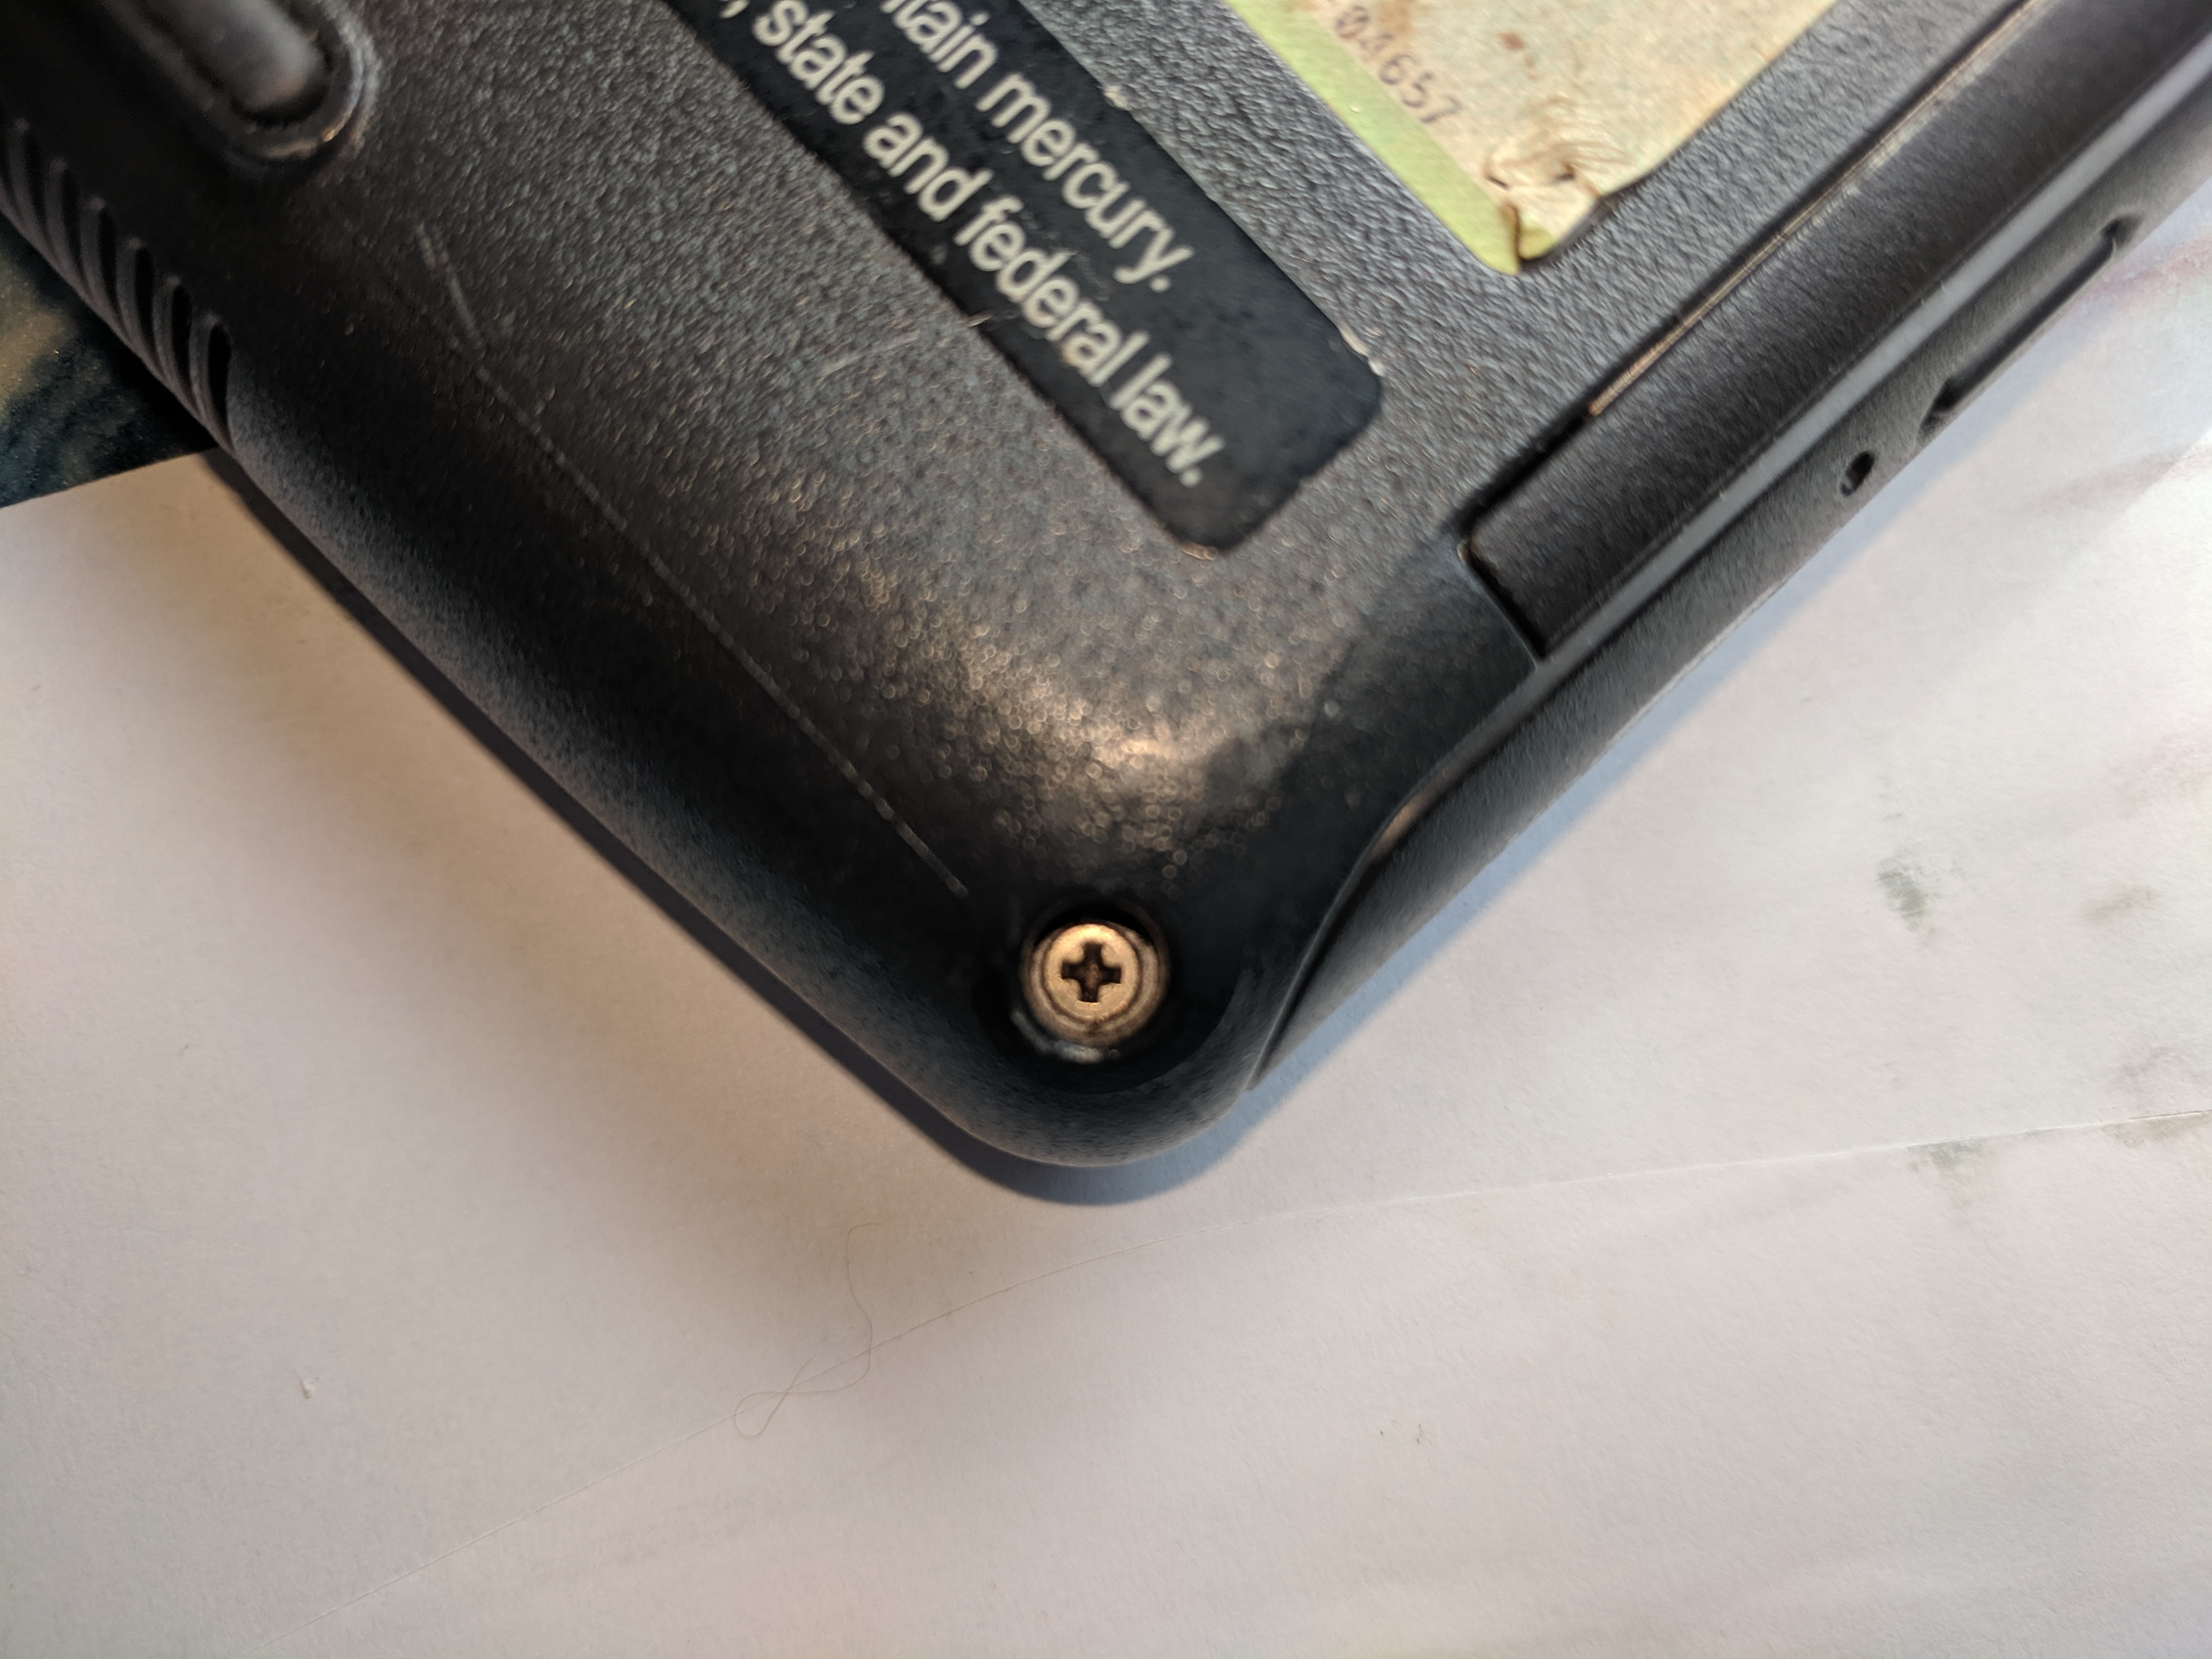cross_recessed_screw: (1599, 791, 1726, 906), (1254, 1389, 1332, 1466), (1259, 221, 1332, 298), (1251, 695, 1329, 767), (1264, 889, 1332, 964)
